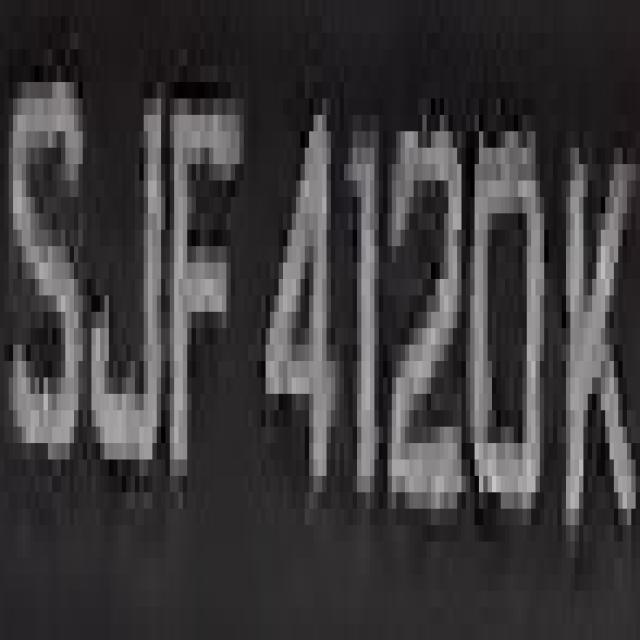0: (470, 82, 544, 542)
1: (348, 49, 383, 558)
2: (379, 49, 470, 574)
4: (252, 49, 340, 525)
F: (170, 33, 248, 459)
J: (92, 33, 174, 492)
K: (553, 82, 636, 591)
S: (9, 0, 87, 476)
